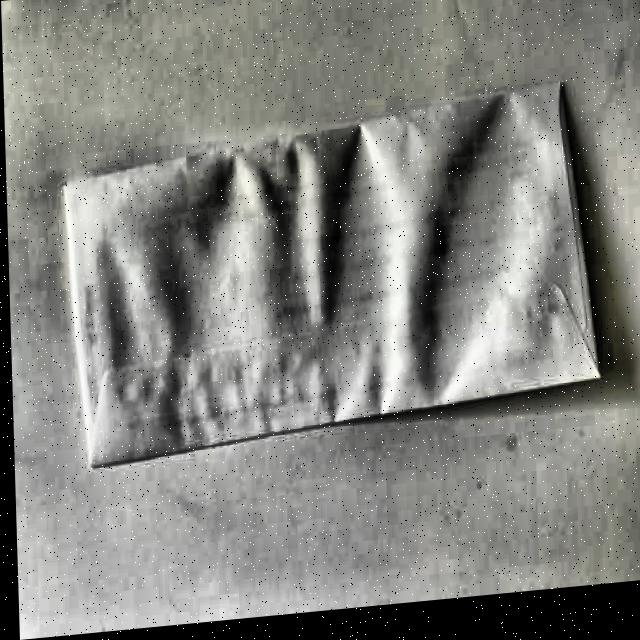paper: (60, 76, 602, 469)
